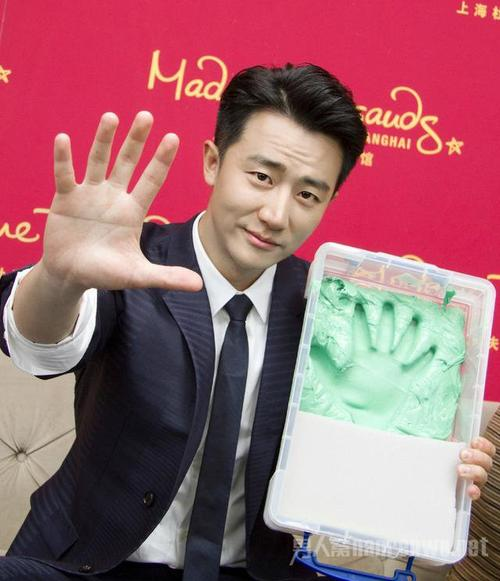no-phone: (37, 105, 210, 297)
